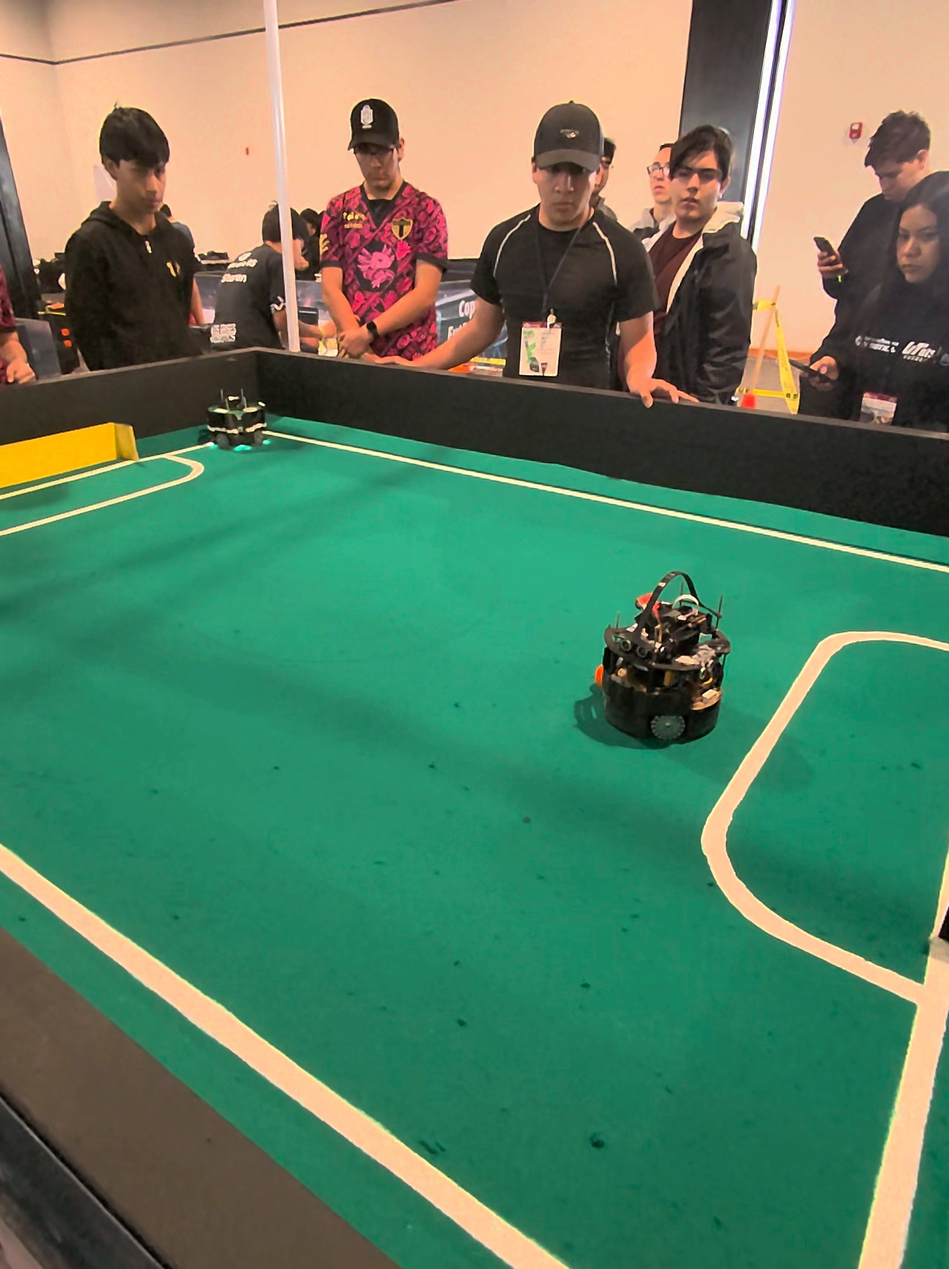Robot: (588, 566, 732, 757), (200, 350, 276, 467)
